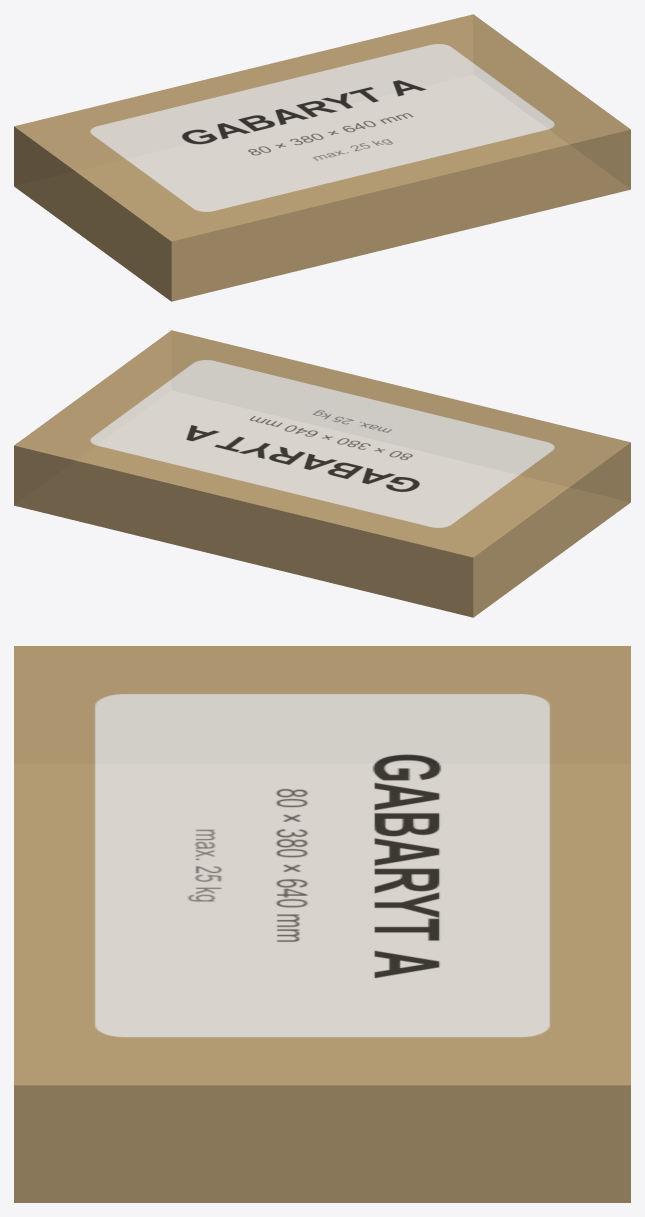
Rendered from gabaryt-a.glb.
The picture shows the model from 3 angles, top to bottom: view 1: azimuth 30°, elevation 25°; view 2: azimuth 150°, elevation 25°; view 3: azimuth 270°, elevation 25°; orthographic projection. The views are drawn at different scales.
Parts seen in each view (by area): view 1: gabaryt-a; view 2: gabaryt-a; view 3: gabaryt-a.
Part boxes in pixels (x1,y1,x2,y2): gabaryt-a: (14, 14, 630, 301); gabaryt-a: (14, 330, 630, 617); gabaryt-a: (14, 646, 630, 1202).
Size of the model in its own units: 0.64 by 0.08 by 0.38.
1 material, 1 textured.
